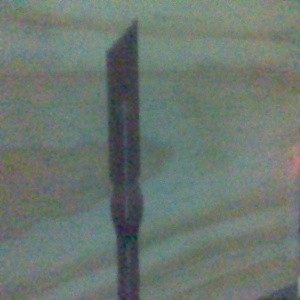cutter: (103, 16, 145, 300)
